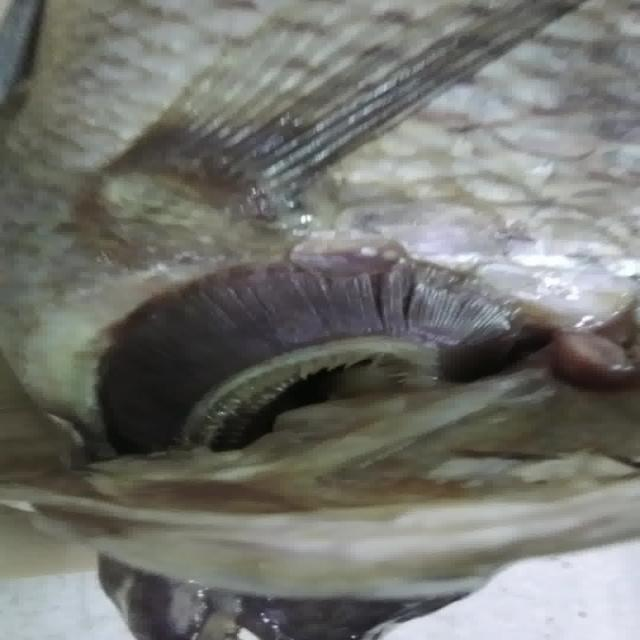Non-Fresh: (81, 249, 549, 485)
